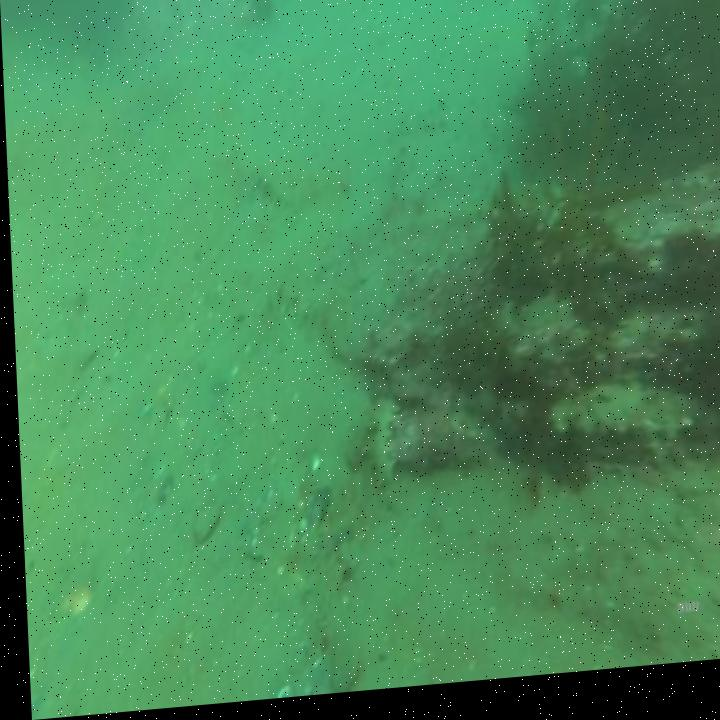holothurian: (360, 391, 399, 502)
